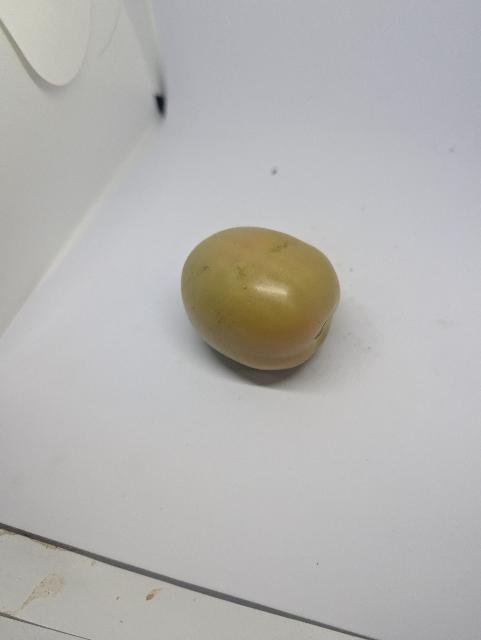breaker: (182, 227, 340, 370)
